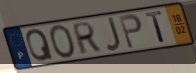J: (104, 15, 123, 52)
O: (48, 23, 78, 59)
P: (117, 12, 144, 51)
Q: (25, 28, 56, 63)
R: (72, 21, 103, 57)
T: (144, 9, 167, 45)
